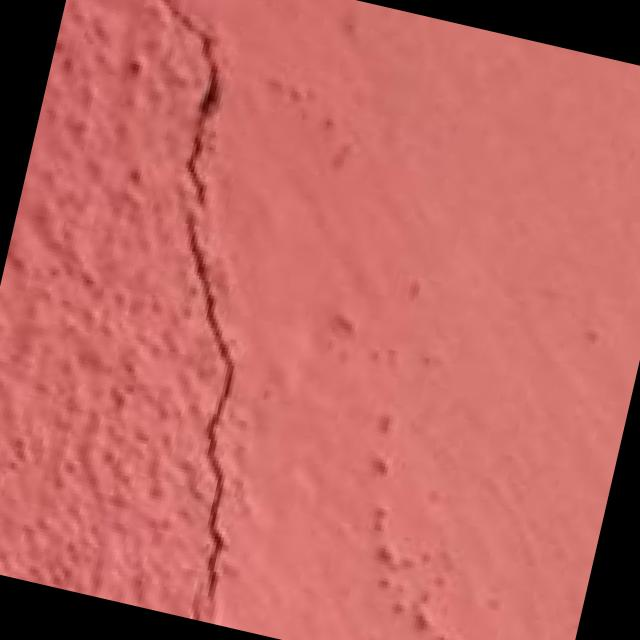crack: (5, 0, 419, 635)
